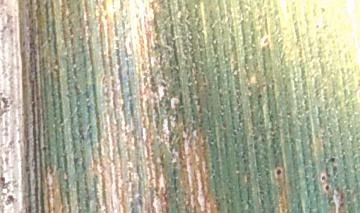tarspot: (1, 174, 11, 191), (1, 94, 11, 110), (5, 193, 17, 206), (1, 109, 11, 122), (4, 12, 13, 24), (273, 167, 282, 177), (1, 23, 10, 33), (318, 5, 326, 14), (329, 154, 336, 163), (331, 164, 338, 173), (40, 144, 47, 153), (320, 24, 329, 31), (323, 183, 330, 191), (320, 175, 326, 182), (314, 23, 319, 29), (1, 1, 8, 5)
